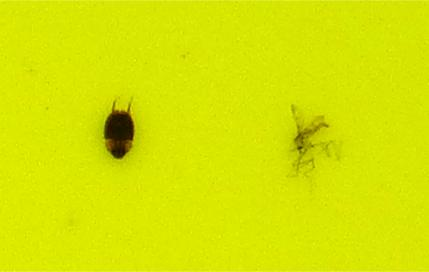Coleoptera: (100, 100, 138, 162)
Nematocera: (290, 115, 329, 172)
